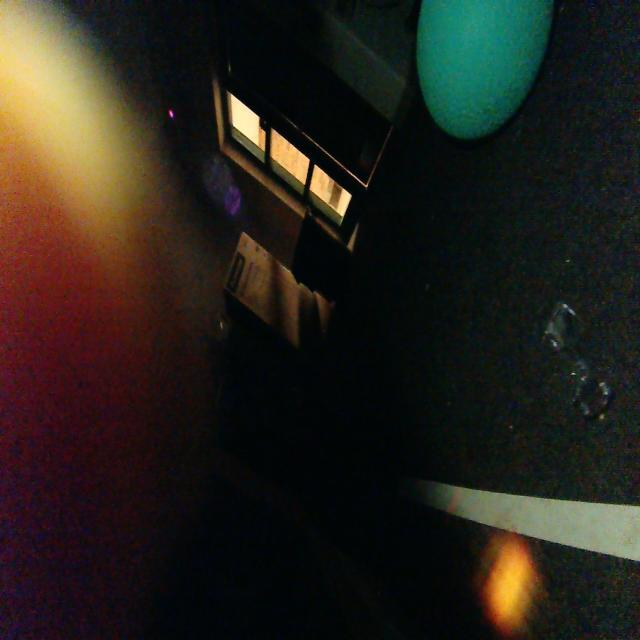algae: (413, 0, 559, 138)
